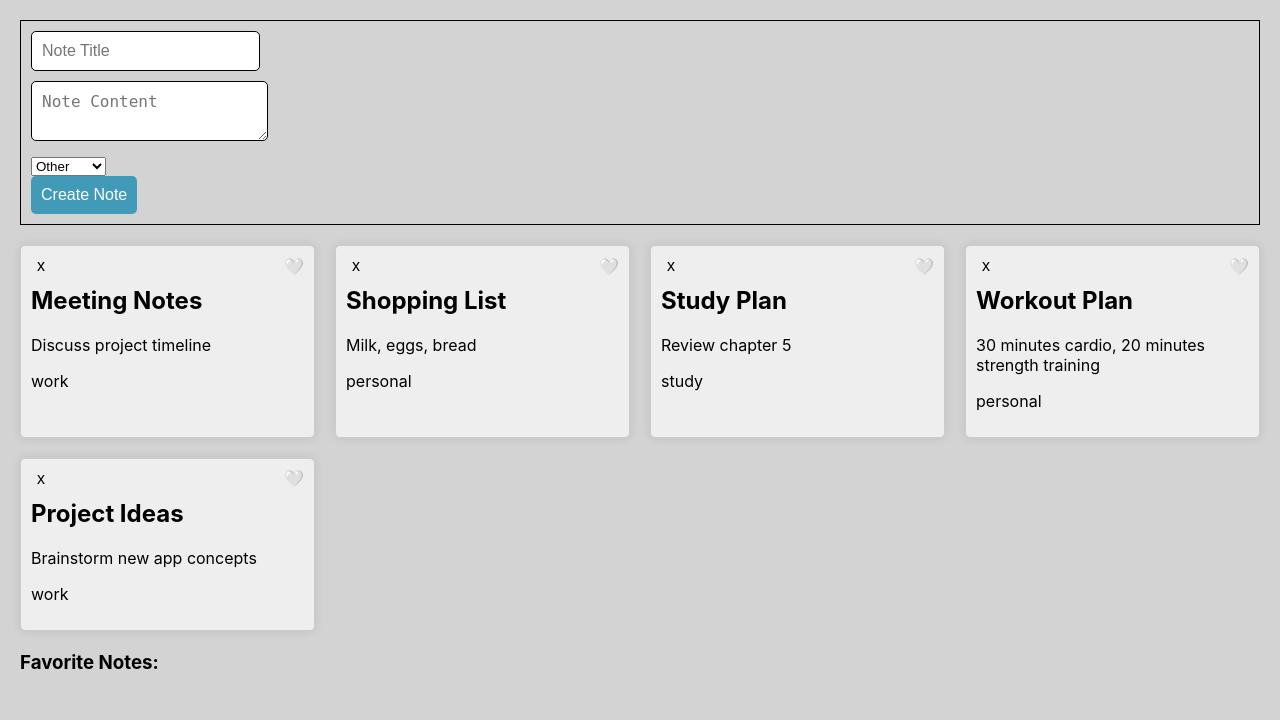
StickyNotes › creates a new note
In the field with test id "note-title-input": coordinates (146, 51) [31,31,260,71], type "New Note"
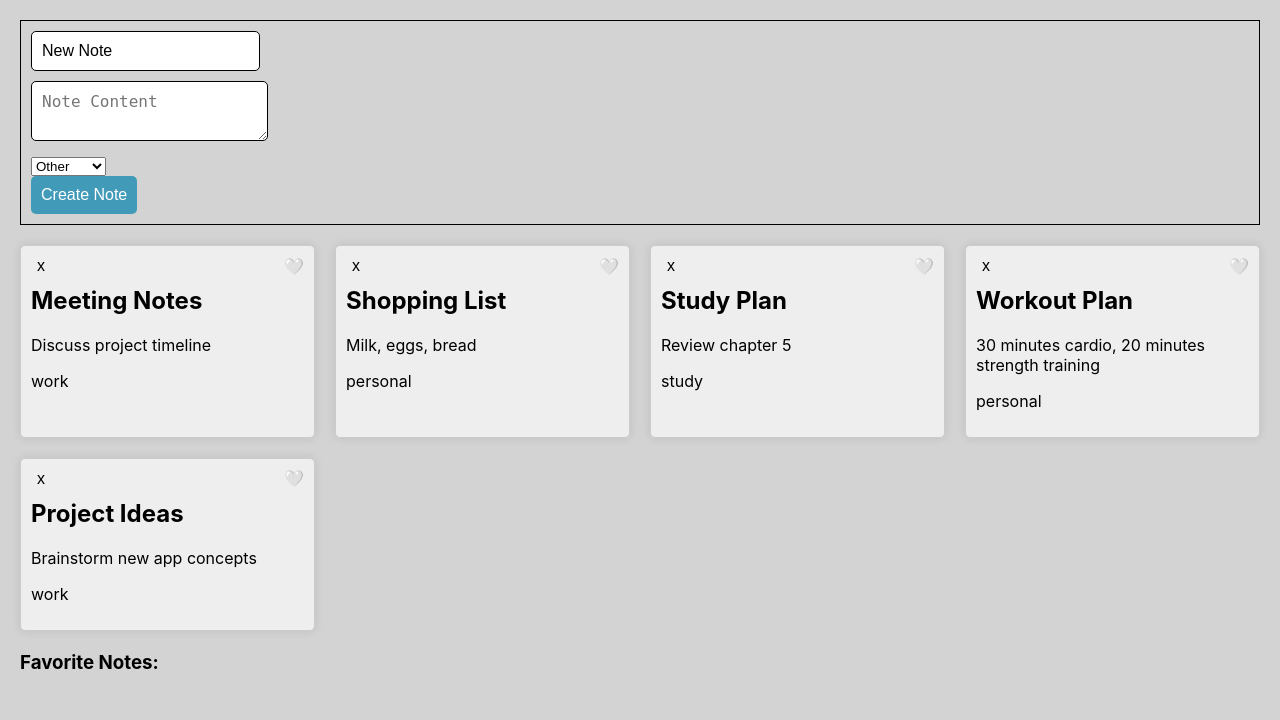
In the text box with test id "note-content-input": coordinates (150, 111) [31,81,268,141], type "Note content"
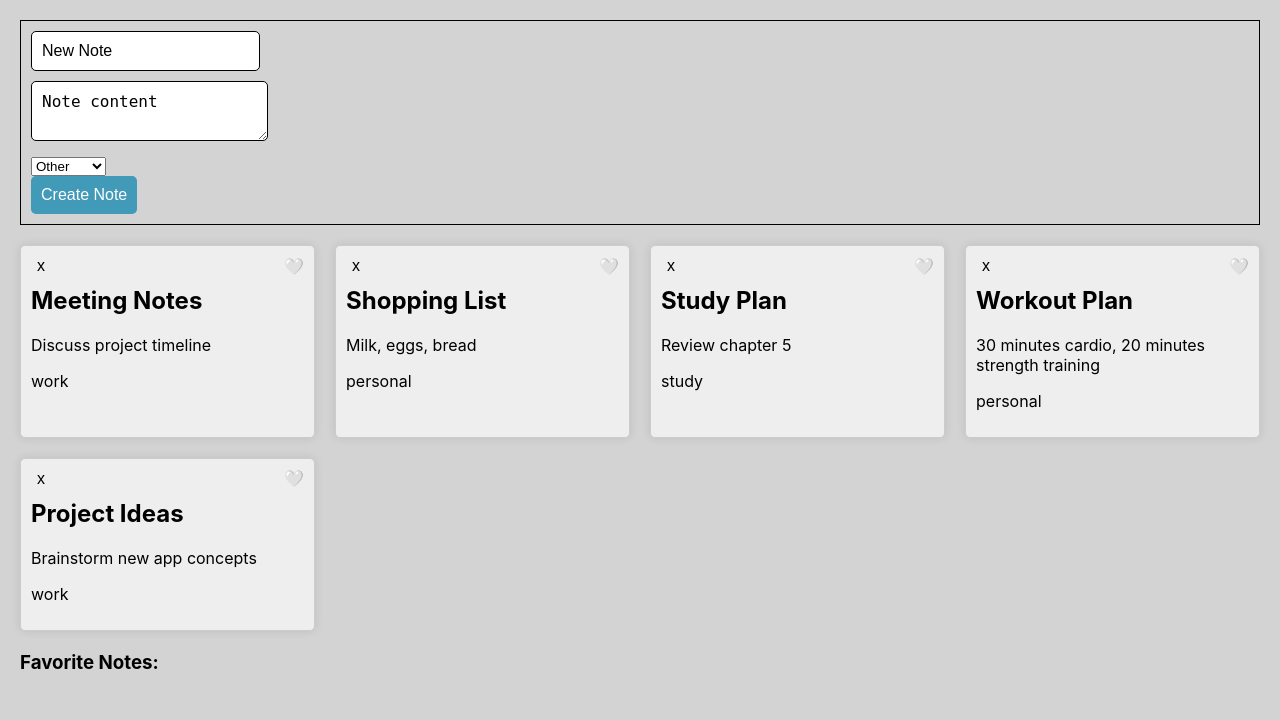
Click the button with test id "create-note-button": coordinates (84, 195) [31,176,137,214]
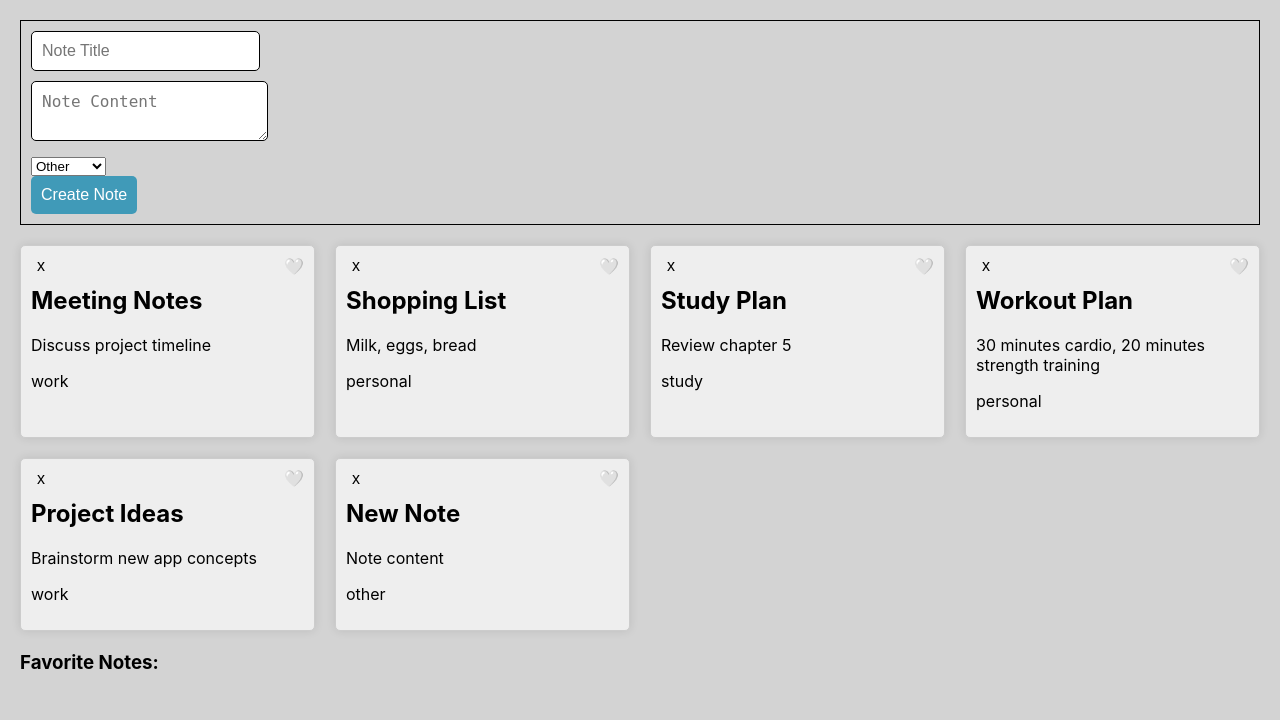
Expected: the heading "New Note" is shown, [346,499,460,528]
Expected: the text "Note content" is shown, [346,548,444,568]
